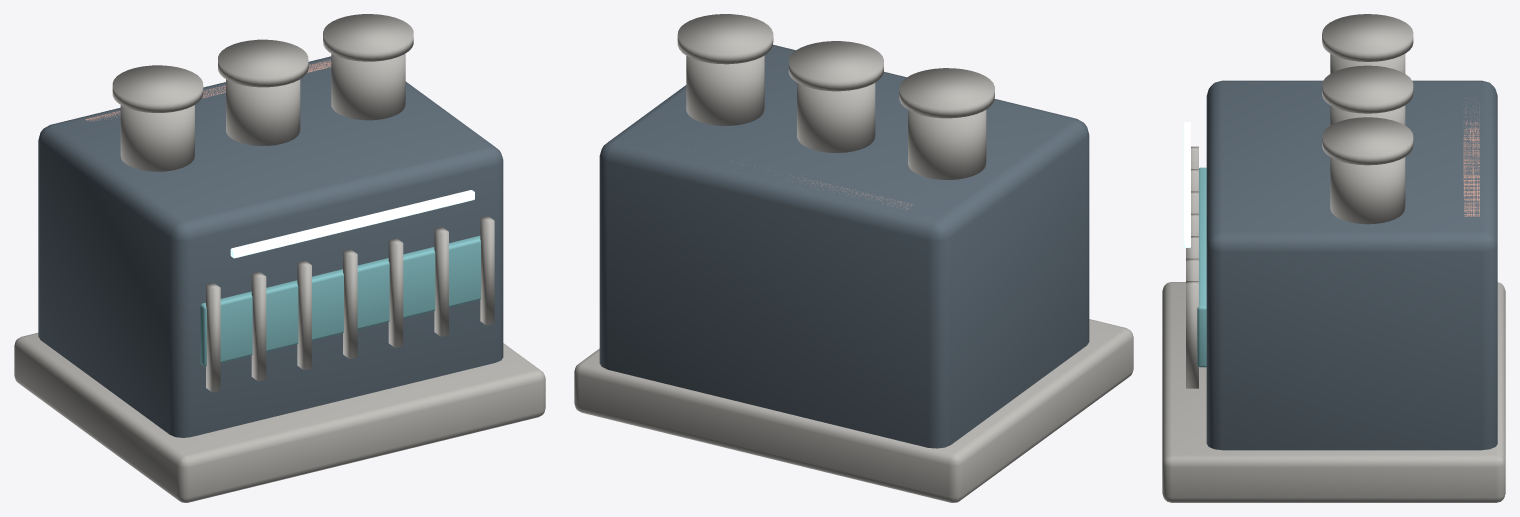
The model's file is compute.glb.
3 views of the same model, side by side, from view 1: azimuth 30°, elevation 25°; view 2: azimuth 150°, elevation 25°; view 3: azimuth 270°, elevation 25° (orthographic). The views are drawn at different scales.
Parts seen in each view (by area): view 1: Base__Compute__MainMass, Base__Compute__Foundation, Base__Compute__FrontRibbon, Base__Compute__FacadeRibs, Base__Compute__Cooling_00, Base__Compute__Cooling_02, Base__Compute__Cooling_01, Base__Compute__StatusRail; view 2: Base__Compute__MainMass, Base__Compute__Foundation, Base__Compute__Cooling_02, Base__Compute__Cooling_00, Base__Compute__Cooling_01; view 3: Base__Compute__MainMass, Base__Compute__Foundation, Base__Compute__Cooling_02, Base__Compute__Cooling_01, Base__Compute__Cooling_00, Base__Compute__FacadeRibs, Base__Compute__FrontRibbon, Base__Compute__ServiceSpine, Base__Compute__StatusRail.
Part boxes in pixels (x1,y1,x2,y2): Base__Compute__MainMass: [38, 56, 503, 437]; Base__Compute__Foundation: [14, 333, 545, 502]; Base__Compute__FrontRibbon: [200, 235, 480, 366]; Base__Compute__FacadeRibs: [206, 216, 494, 392]; Base__Compute__Cooling_00: [112, 65, 203, 171]; Base__Compute__Cooling_02: [323, 14, 413, 120]; Base__Compute__Cooling_01: [218, 39, 308, 145]; Base__Compute__StatusRail: [230, 190, 474, 258]; Base__Compute__MainMass: [599, 44, 1089, 448]; Base__Compute__Foundation: [574, 319, 1133, 502]; Base__Compute__Cooling_02: [677, 14, 773, 125]; Base__Compute__Cooling_00: [899, 68, 994, 179]; Base__Compute__Cooling_01: [788, 41, 883, 152]; Base__Compute__MainMass: [1206, 80, 1497, 450]; Base__Compute__Foundation: [1162, 282, 1505, 502]; Base__Compute__Cooling_02: [1322, 117, 1413, 224]; Base__Compute__Cooling_01: [1322, 65, 1413, 125]; Base__Compute__Cooling_00: [1322, 14, 1413, 73]; Base__Compute__FacadeRibs: [1186, 146, 1198, 388]; Base__Compute__FrontRibbon: [1197, 167, 1206, 367]; Base__Compute__ServiceSpine: [1463, 105, 1479, 216]; Base__Compute__StatusRail: [1183, 122, 1190, 247].
Bounding box in the file's own units: 8.2 × 7.03 × 6.6.
